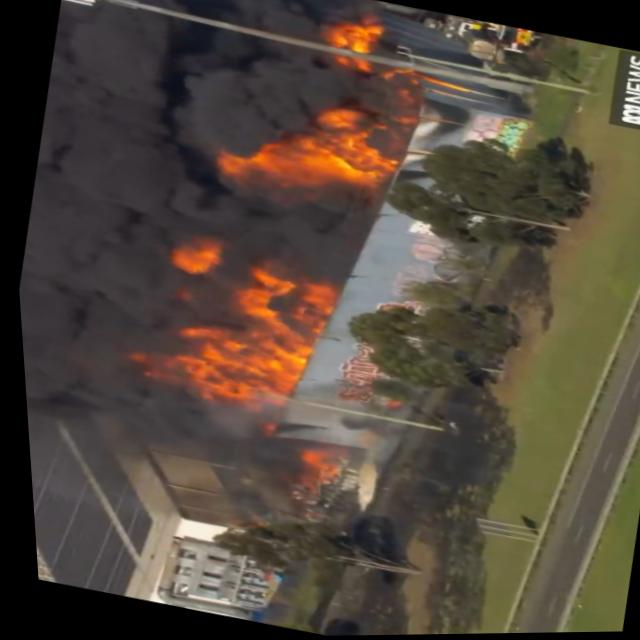Fire: (126, 237, 333, 430), (239, 89, 400, 214), (319, 10, 390, 73)
